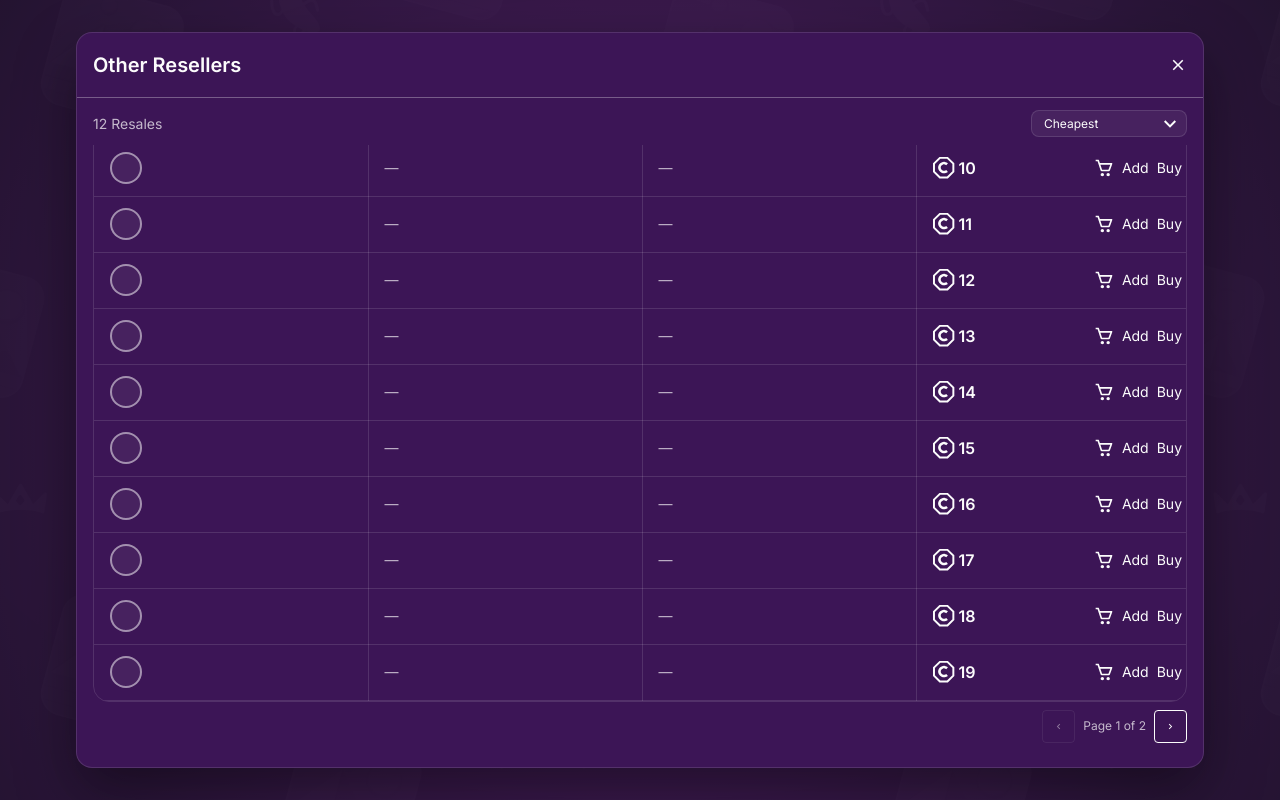
Test case: ResellersModal › paginates ten rows per page
(page scrolled)
Expected: the text with test id "resale-page-label" reads "Page 1 of 2", [1083, 718, 1146, 733]
Expected: the button with test id "resale-prev-page" is disabled, [1042, 710, 1075, 743]
Click the button with test id "resale-next-page" at (1170, 726), box [1154, 710, 1187, 743]
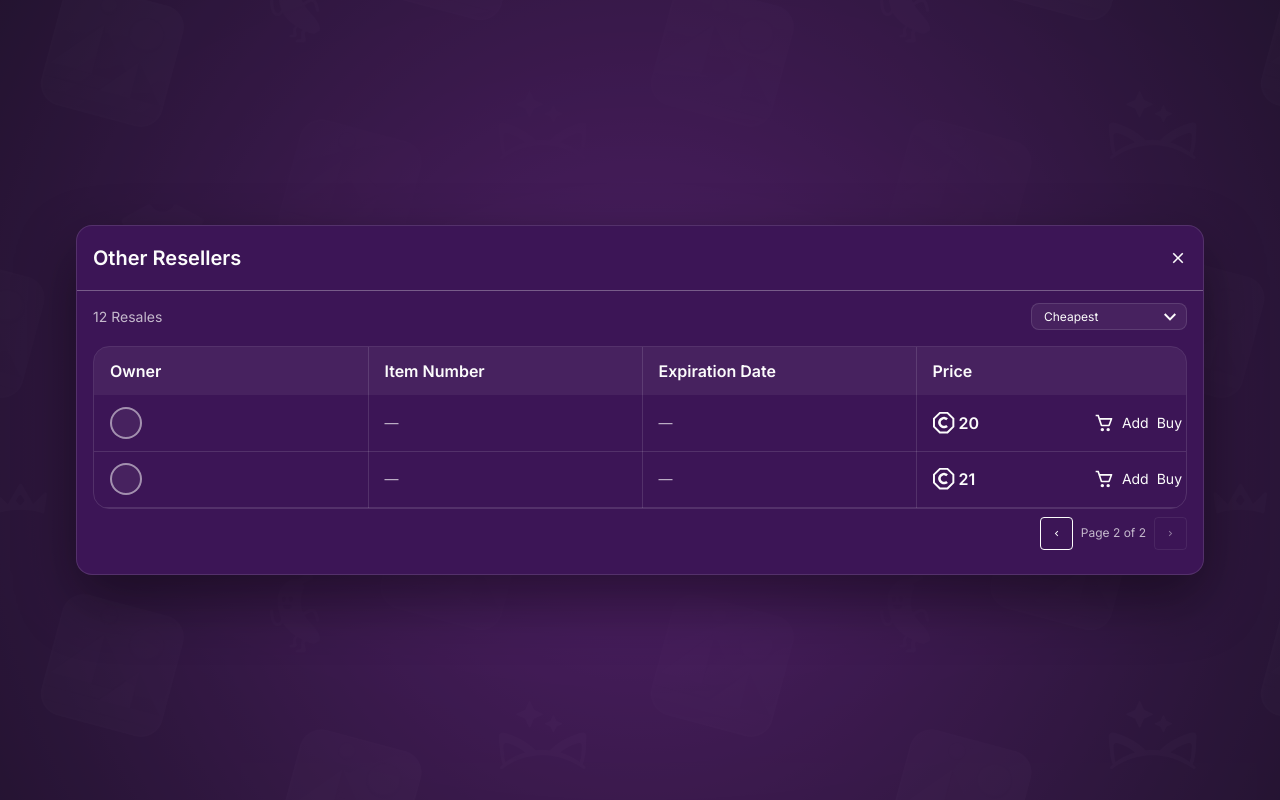
Expected: the number of rows with test id "resale-row" is 2, [94, 395, 1187, 451]; [94, 451, 1187, 507]
Expected: the text with test id "resale-page-label" reads "Page 2 of 2", [1081, 525, 1146, 540]
Expected: the button with test id "resale-next-page" is disabled, [1154, 517, 1187, 550]
